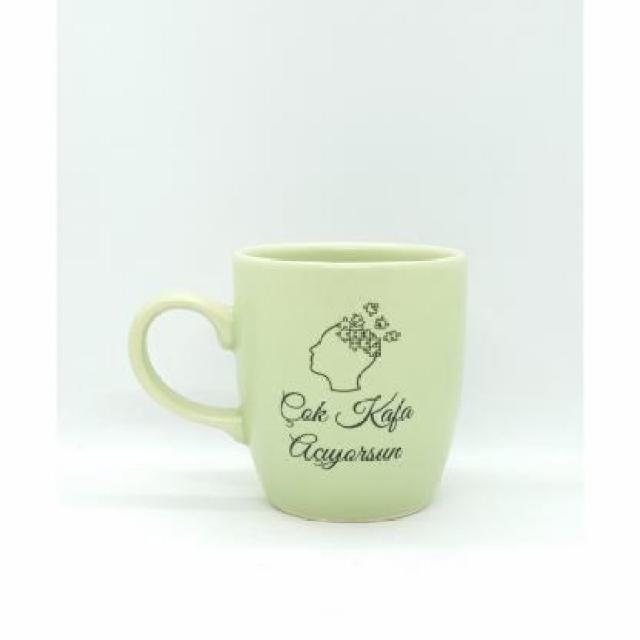taza: (122, 227, 479, 526)
